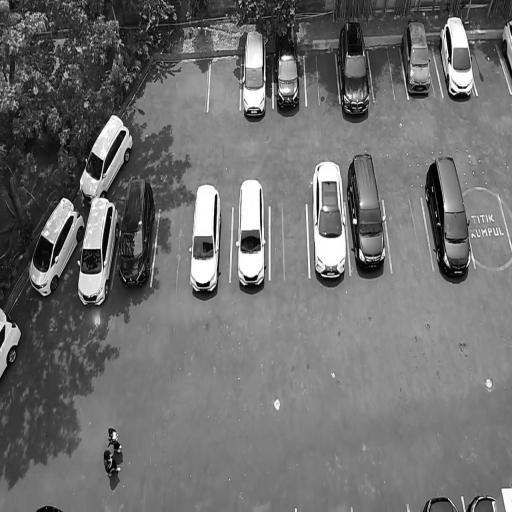Car: (418, 150, 477, 286), (21, 186, 87, 304), (72, 105, 139, 206), (71, 189, 123, 309), (309, 152, 350, 288), (348, 148, 388, 283), (186, 182, 226, 300), (118, 172, 154, 295), (433, 10, 480, 100), (236, 170, 268, 300), (338, 17, 372, 120), (398, 17, 439, 99), (275, 14, 304, 118), (242, 24, 268, 122), (0, 306, 25, 384), (493, 13, 512, 89), (418, 493, 463, 512), (464, 487, 498, 512)
Space Available: (383, 197, 433, 274), (464, 194, 512, 268), (151, 202, 193, 284), (270, 202, 309, 279), (469, 40, 511, 96), (367, 43, 407, 100), (305, 50, 339, 107), (208, 54, 241, 112), (498, 190, 512, 252)
